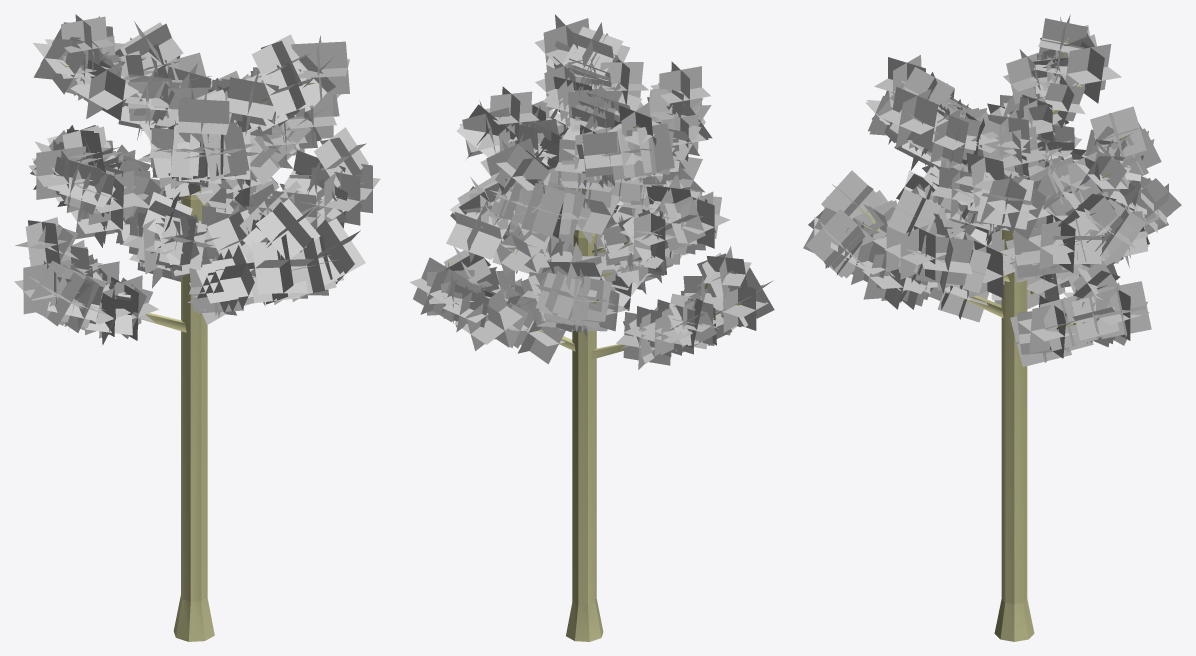
The model's file is Dau_Mid_2.fbx.
3 views of the same model, side by side, from view 1: azimuth 30°, elevation 25°; view 2: azimuth 150°, elevation 25°; view 3: azimuth 270°, elevation 25° (orthographic). The views are drawn at different scales.
Parts seen in each view (by area): view 1: Leaves_LOD0, Trunk_LOD0; view 2: Leaves_LOD0, Trunk_LOD0; view 3: Leaves_LOD0, Trunk_LOD0.
Boxes of the visible parts, x1,y1,x2,y2 form: Leaves_LOD0: (14,14,380,345); Trunk_LOD0: (55,43,322,641); Leaves_LOD0: (409,14,774,369); Trunk_LOD0: (442,35,745,641); Leaves_LOD0: (803,14,1181,366); Trunk_LOD0: (856,38,1145,641).
Size of what is drawn, in the model's own units: 3014 by 5400 by 3183.
